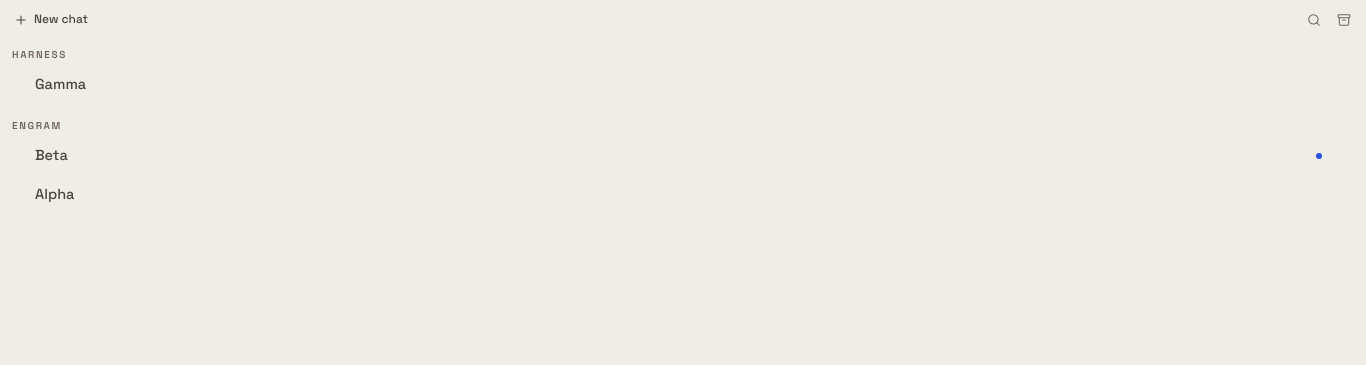
it: SessionList › Select all covers the archived section when it is open
Expected: the text "Alpha" is shown, [35,185,74,203]
Click the button named "Show archived": (1344, 20) [1330,6,1358,34]
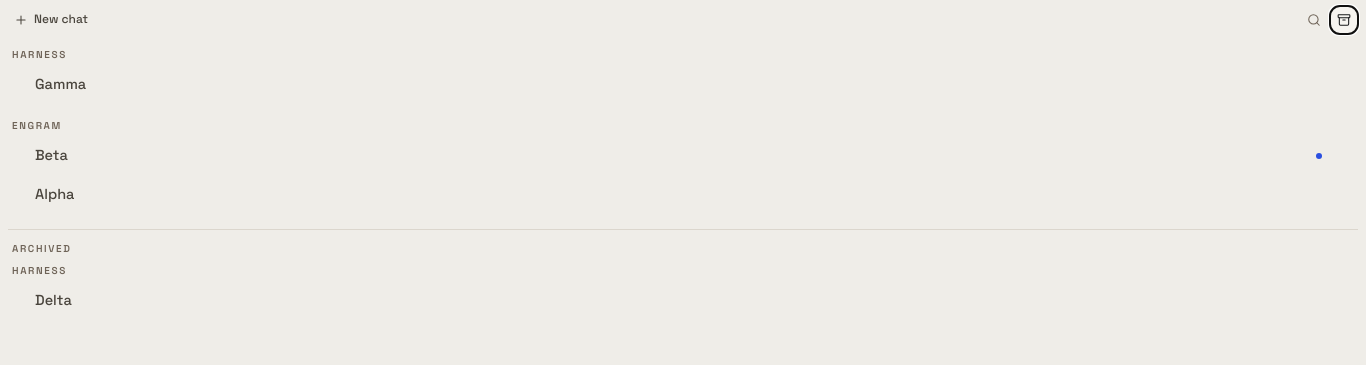
Now the text "Delta" is shown, box [35,291,72,309]
Click the checkbox named "Select Alpha": (683, 194) [8,176,1358,213]
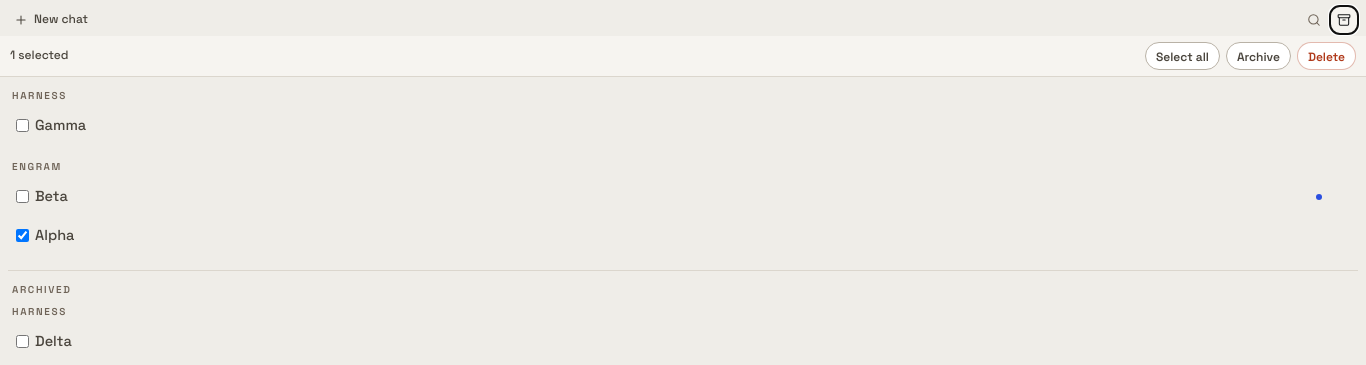
Click the button "Select all": (1182, 56) [1145,42,1220,70]
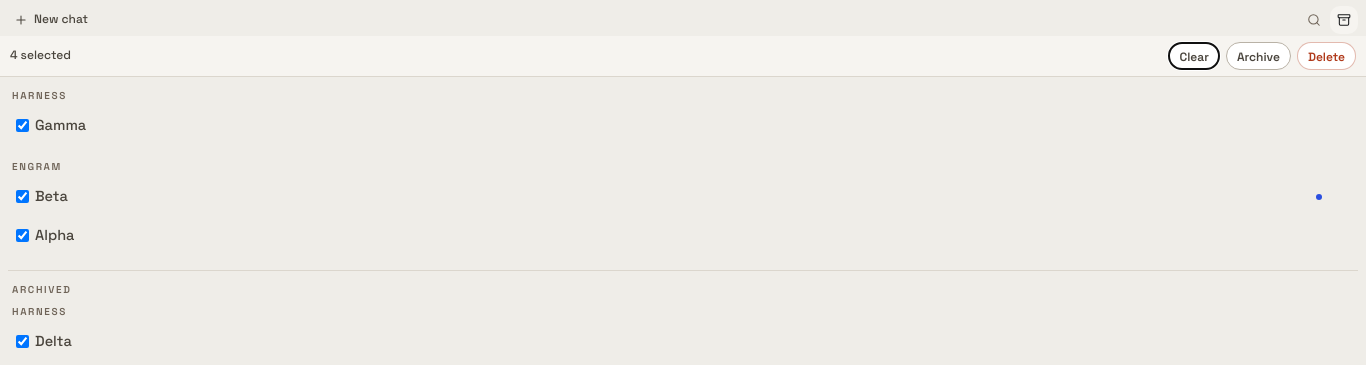
Now the text "4 selected" is shown, box [10,47,71,65]
Now the checkbox named "Select Delta" is checked, box [16,335,29,348]
